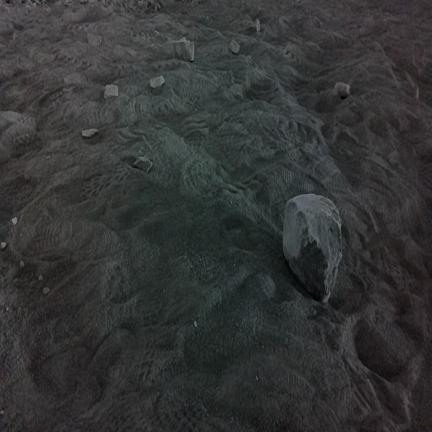Rock: (283, 194, 341, 302), (173, 37, 194, 61), (134, 156, 152, 173), (103, 84, 118, 99), (335, 82, 349, 97), (82, 128, 98, 139), (88, 33, 101, 46), (150, 76, 164, 88), (230, 40, 239, 53), (252, 19, 260, 32), (43, 287, 49, 294), (0, 242, 6, 249), (12, 217, 17, 225), (25, 173, 30, 181), (20, 261, 24, 268), (39, 275, 43, 280)
